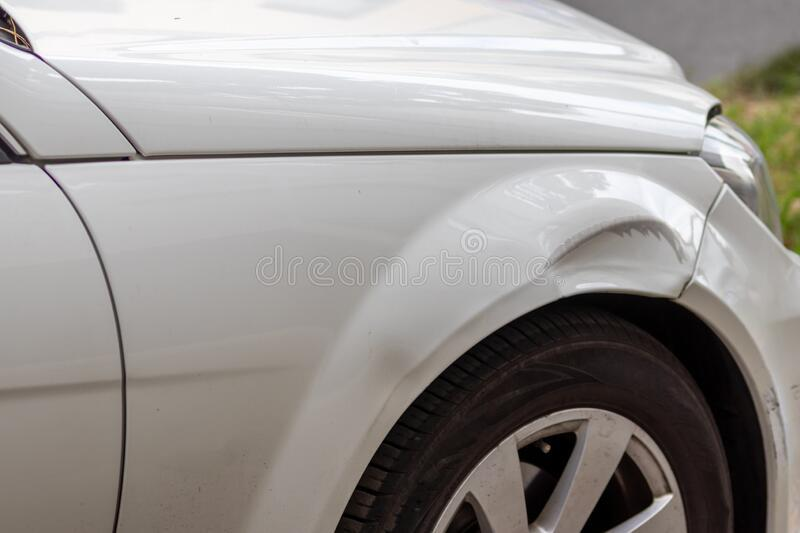fender-dent: (89, 148, 700, 430)
